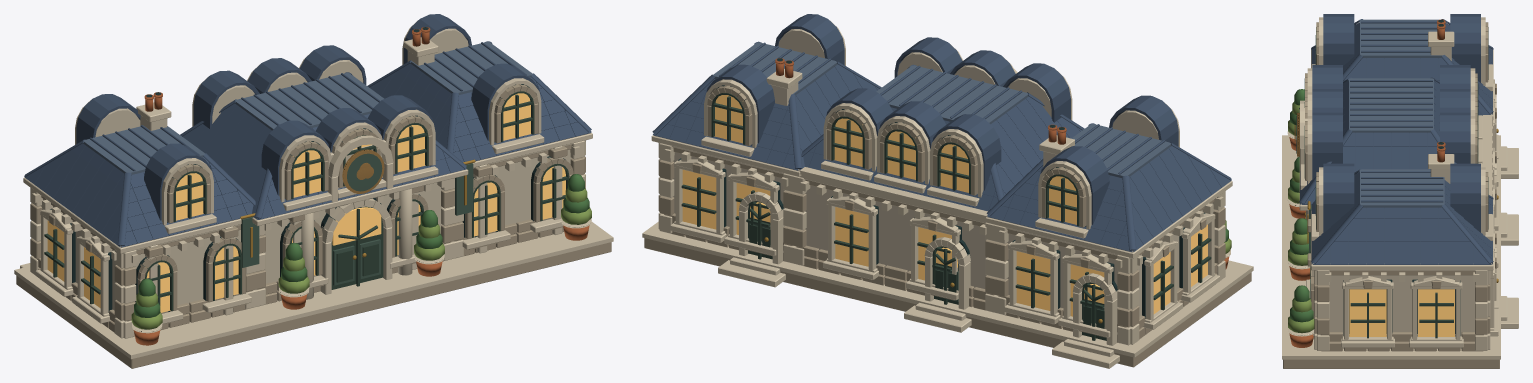
3 renders of one model, left to right at view 1: azimuth 30°, elevation 25°; view 2: azimuth 150°, elevation 25°; view 3: azimuth 270°, elevation 25°, orthographic. The views are drawn at different scales.
Visible parts, largest first — view 1: classic_finance_1_geometry, classic_finance_1_geometry ceramic; view 2: classic_finance_1_geometry, classic_finance_1_geometry ceramic; view 3: classic_finance_1_geometry ceramic, classic_finance_1_geometry.
Part boxes in pixels (box(x1,y1,x2,y2)): classic_finance_1_geometry: box(14, 20, 613, 368); classic_finance_1_geometry ceramic: box(24, 14, 591, 247); classic_finance_1_geometry: box(642, 21, 1253, 368); classic_finance_1_geometry ceramic: box(652, 14, 1231, 252); classic_finance_1_geometry ceramic: box(1299, 14, 1493, 264); classic_finance_1_geometry: box(1282, 17, 1518, 368).
Bounding box in the file's own units: 2.25 × 0.8327 × 1.02.
